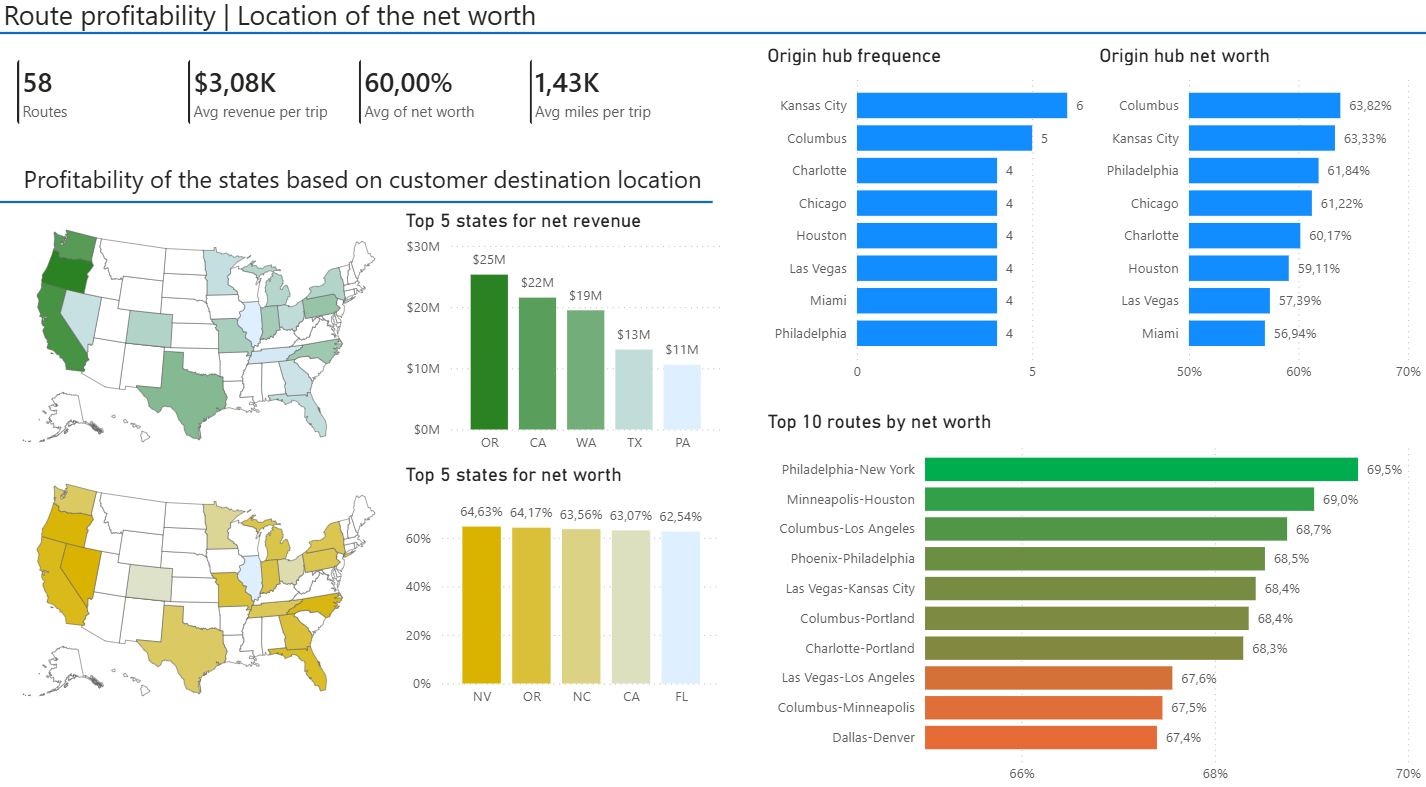

The dashboard page shown, as its layout file describes it:
{"tool":"powerbi","page":{"name":"RP","canvas":[1280,720],"ordinal":2},"visuals":[{"type":"textbox","box":[0,0,1279.7,44.8],"z":0},{"type":"shape","box":[0,32.2,1279.7,12.5],"z":1000},{"type":"clusteredBarChart","title":"Top 10 routes by net worth","fields":{"Y":["Sum(Route_profitability.Net_worth)"],"Category":["Route_profitability.route"]},"box":[684.2,376.1,595.5,343.9],"z":2000},{"type":"cardVisual","fields":{"Data":["Count(Route_profitability.route)","Avg(Route_profitability.avg_trip_revenue)","Avg(Route_profitability.Net_worth)","Avg(Route_profitability.avg_trip_miles)"]},"box":[0,44.8,640.3,93.1],"z":3000},{"type":"shapeMap","fields":{"Category":["Route_profitability.destination_state"],"Value":["Sum(Route_profitability.Net_revenue)"]},"box":[-0.4,196.1,360,227.5],"z":4000},{"type":"clusteredColumnChart","title":"Top 5 states for  net revenue","fields":{"Category":["Route_profitability.destination_state"],"Y":["Sum(Route_profitability.Net_revenue)"]},"box":[359.6,196.1,292.8,227.5],"z":5000},{"type":"shapeMap","fields":{"Category":["Route_profitability.destination_state"],"Value":["Avg(Route_profitability.Net_worth)"]},"box":[-0.4,423.6,360,227.5],"z":6000},{"type":"clusteredColumnChart","title":"Top 5 states for net worth","fields":{"Category":["Route_profitability.destination_state"],"Y":["Avg(Route_profitability.Net_worth)"]},"box":[359.6,423.6,292.8,227.5],"z":7000},{"type":"clusteredBarChart","title":"Origin hub frequence","fields":{"Category":["Route_profitability.origin_city"],"Y":["CountNonNull(Route_profitability.route_id)"]},"box":[684.2,48.4,297.3,311.6],"z":8000},{"type":"clusteredBarChart","title":"Origin hub net worth","fields":{"Category":["Route_profitability.origin_city"],"Y":["Avg(Route_profitability.Net_worth)"]},"box":[981.5,48.4,298.2,311.6],"z":9000},{"type":"textbox","box":[0,149.6,652.8,45.7],"z":10000},{"type":"shape","box":[0,183.6,640.3,12.5],"z":11000}]}

Visuals, with their boxes in screenshot pixels (x1, y1, x2, y2), scaled from the page's 1280x720 canvas onto the 1426x787 screenshot:
textbox: [0,0,1425,49]
shape: [0,35,1425,49]
"Top 10 routes by net worth" clusteredBarChart: [762,411,1425,786]
cardVisual - Count(Route_profitability.route) x Avg(Route_profitability.avg_trip_revenue): [0,49,713,151]
shapeMap - Route_profitability.destination_state x Sum(Route_profitability.Net_revenue): [0,214,401,463]
"Top 5 states for  net revenue" clusteredColumnChart: [401,214,727,463]
shapeMap - Route_profitability.destination_state x Avg(Route_profitability.Net_worth): [0,463,401,712]
"Top 5 states for net worth" clusteredColumnChart: [401,463,727,712]
"Origin hub frequence" clusteredBarChart: [762,53,1093,393]
"Origin hub net worth" clusteredBarChart: [1093,53,1425,393]
textbox: [0,164,727,213]
shape: [0,201,713,214]
